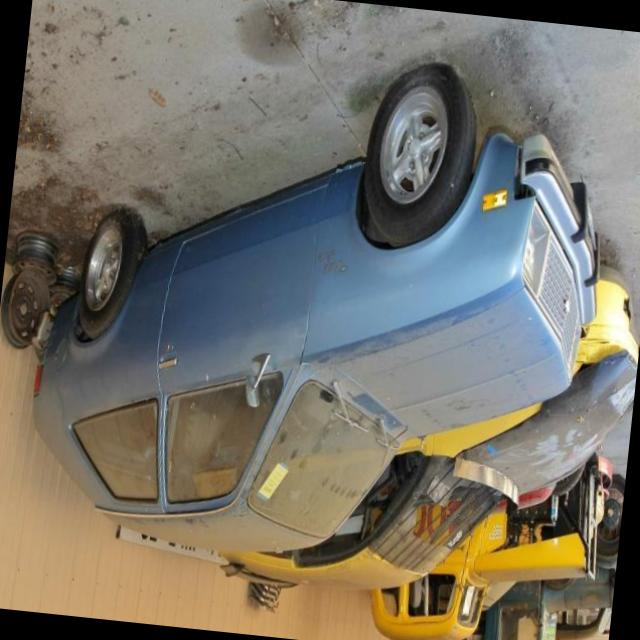car: (19, 19, 622, 583)
